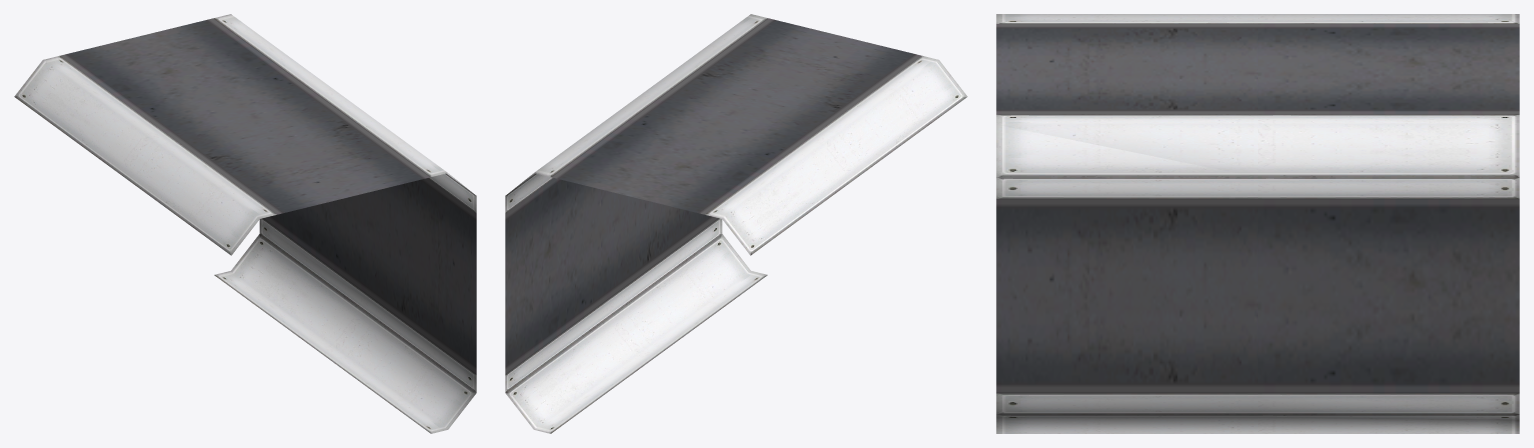
The model's file is GroundTrimCap_1x2.FBX.
3 renders of one model, left to right at view 1: azimuth 30°, elevation 25°; view 2: azimuth 150°, elevation 25°; view 3: azimuth 270°, elevation 25°, orthographic. The views are drawn at different scales.
Visible parts, largest first — view 1: GroundTrimCap_1x2; view 2: GroundTrimCap_1x2; view 3: GroundTrimCap_1x2.
Boxes of the visible parts, left/top/right/bottom form: GroundTrimCap_1x2: left=14, top=14, right=476, bottom=433; GroundTrimCap_1x2: left=505, top=14, right=967, bottom=433; GroundTrimCap_1x2: left=996, top=14, right=1519, bottom=433.
Bounding box in the file's own units: 1.3 × 1.3 × 2.
